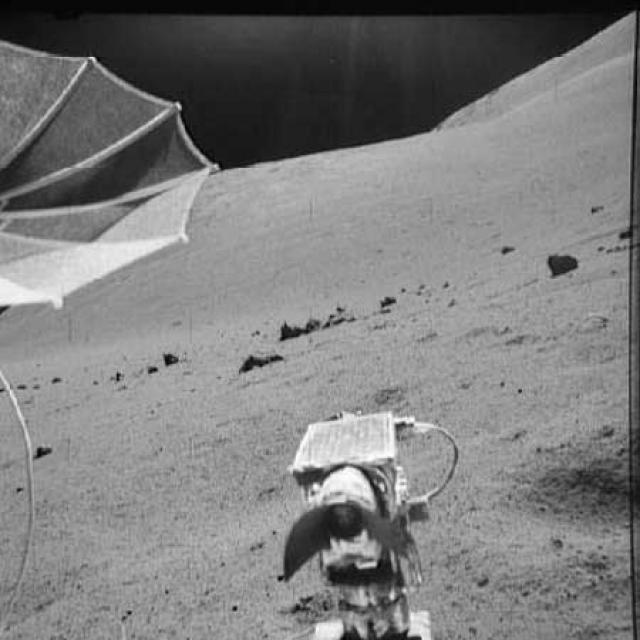artifact: (0, 37, 218, 320), (276, 408, 469, 639), (0, 370, 53, 638)
crater: (514, 455, 633, 534)
rock: (237, 346, 292, 374), (271, 312, 324, 340), (540, 248, 580, 284), (29, 428, 53, 462), (152, 346, 180, 368), (379, 291, 396, 312)
